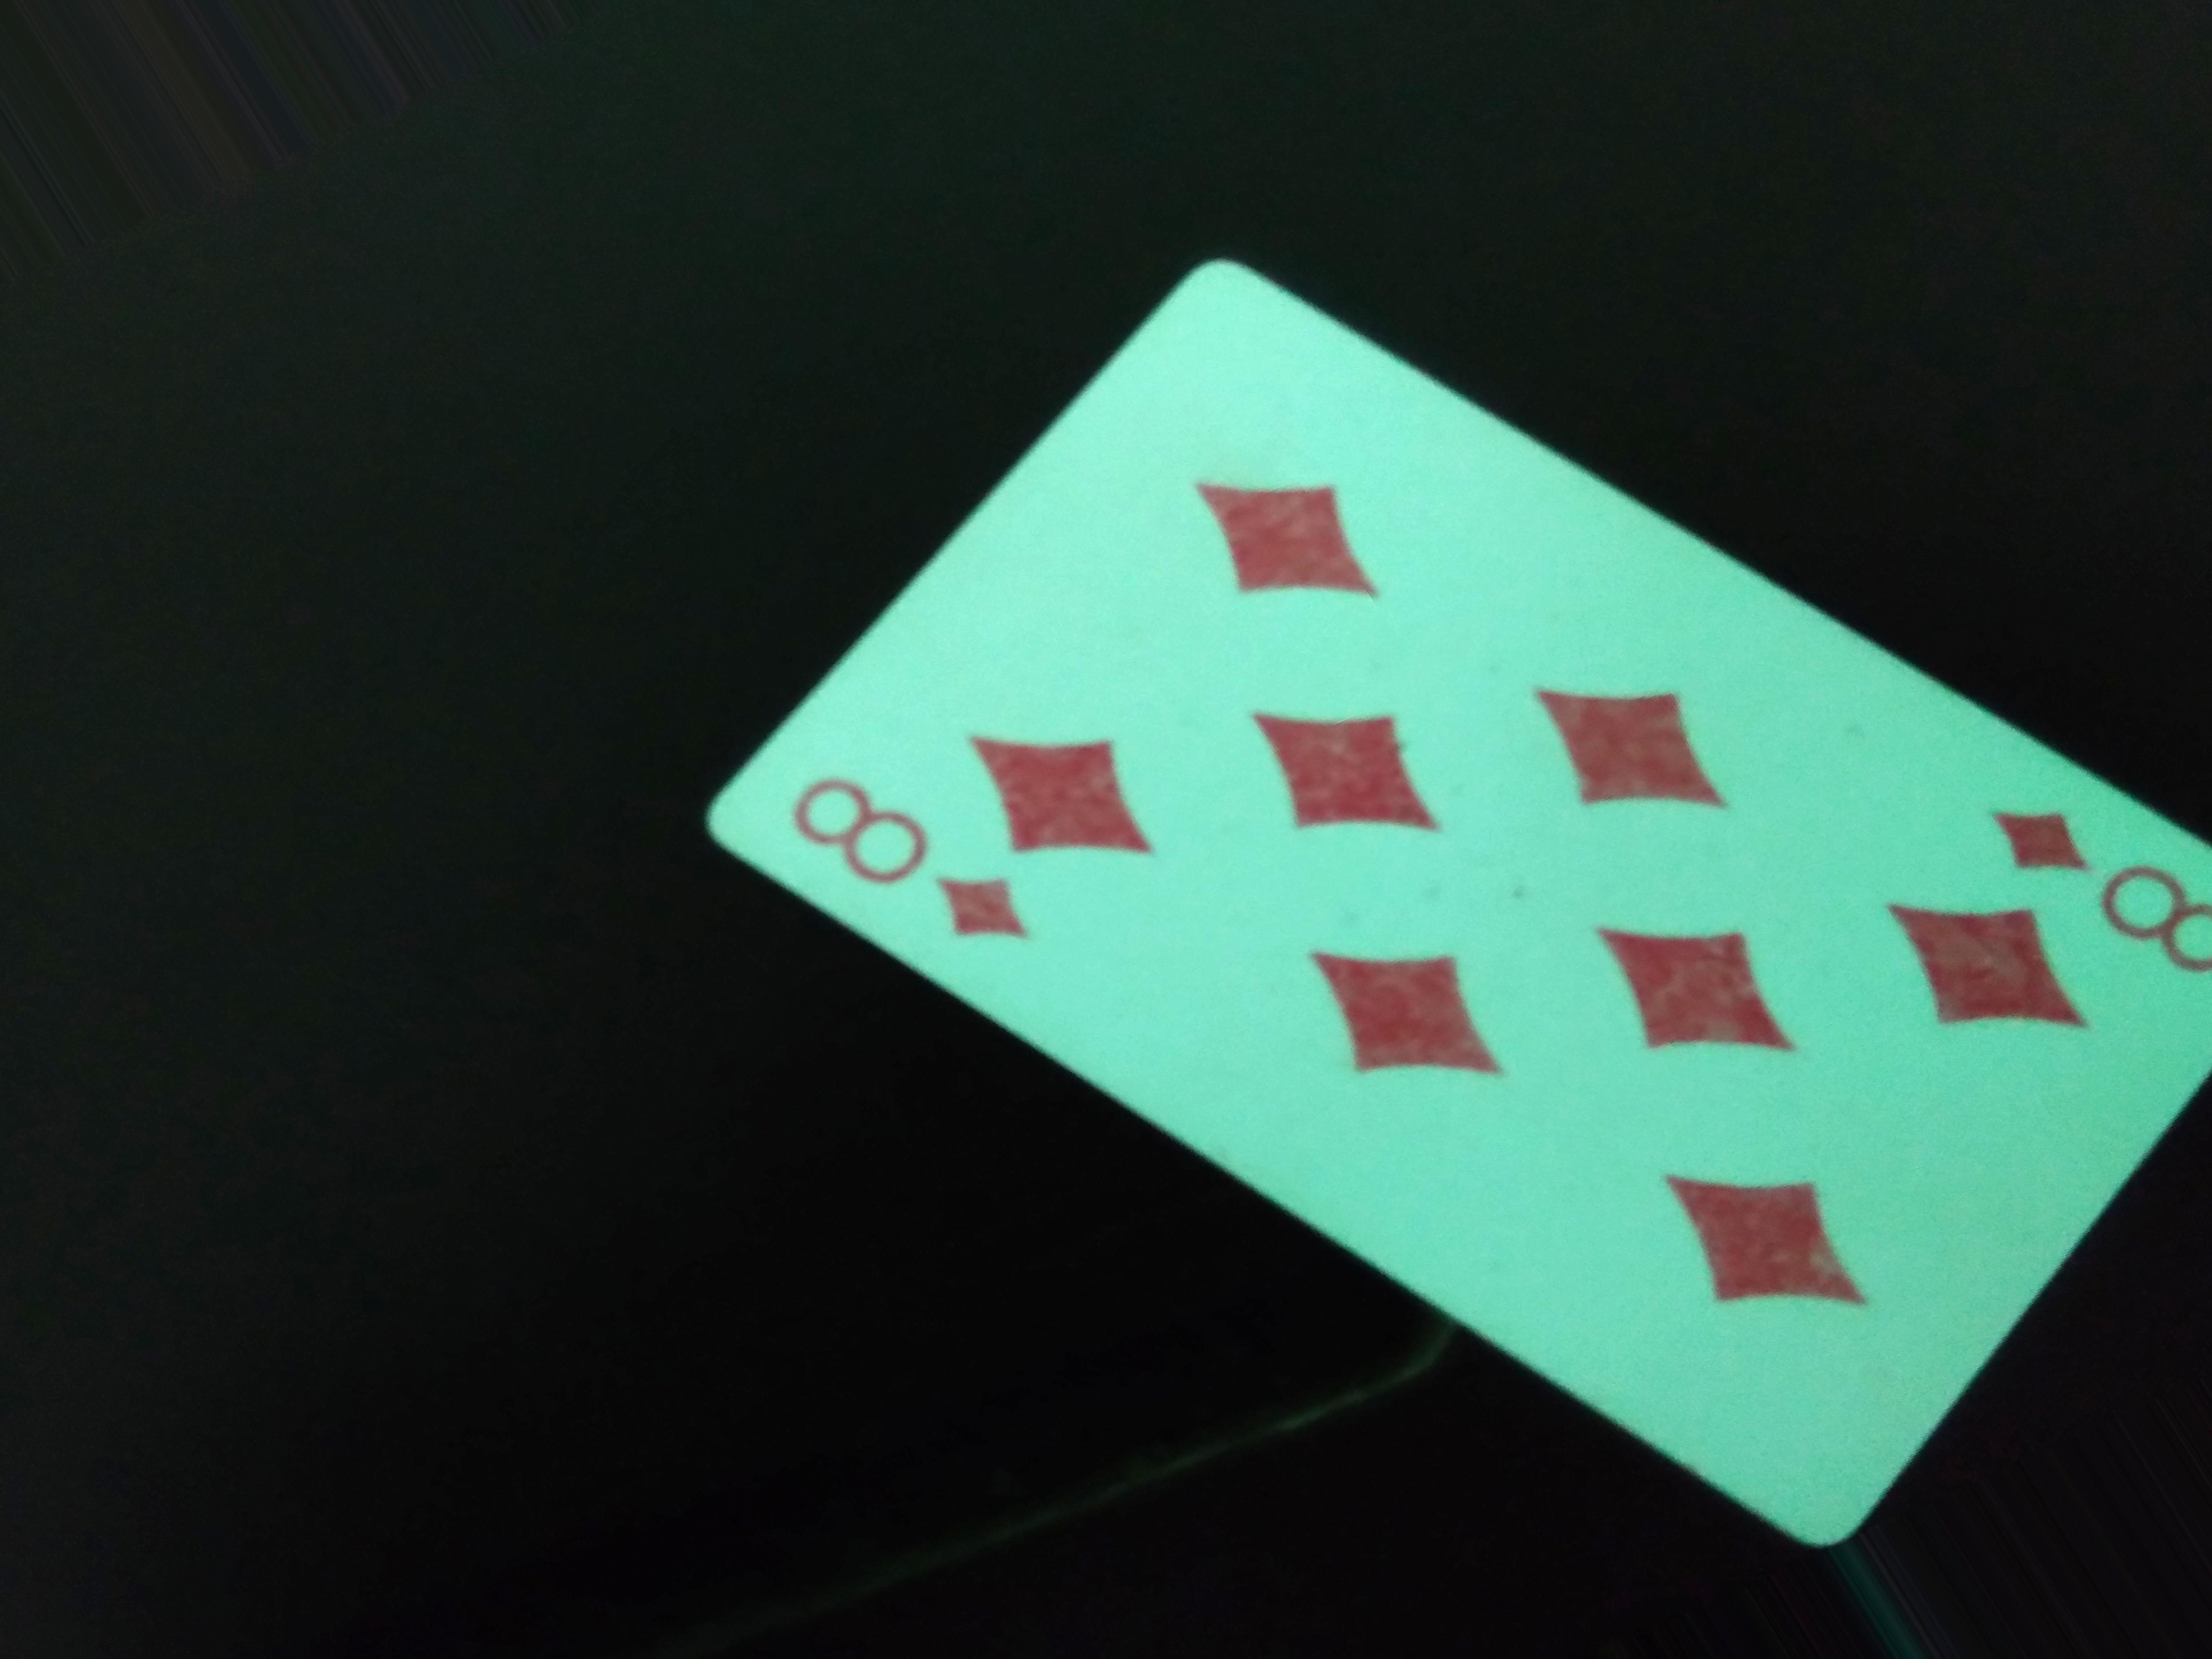8D: (763, 748, 1062, 978)
